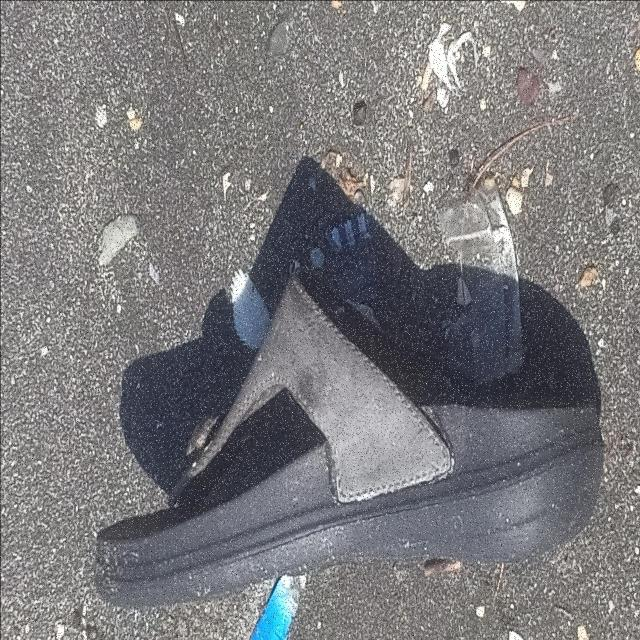rubber_waste: (93, 263, 607, 613)
